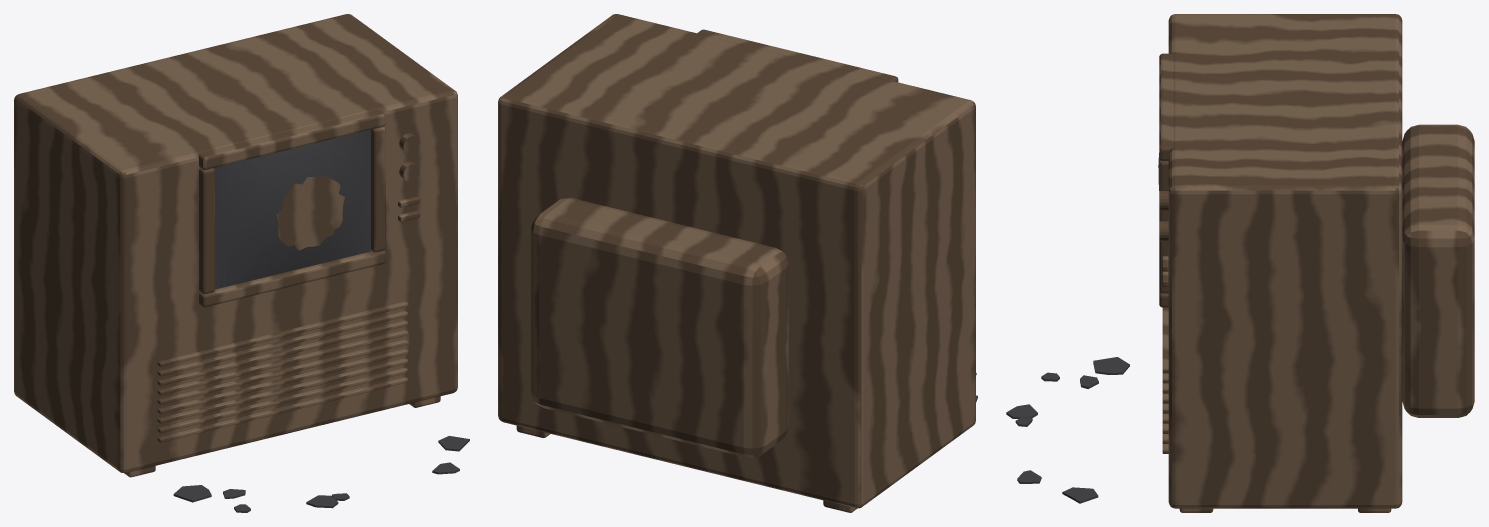
The model's file is PRP_CRTTV_Destroyed.fbx.
3 renders of one model, left to right at view 1: azimuth 30°, elevation 25°; view 2: azimuth 150°, elevation 25°; view 3: azimuth 270°, elevation 25°, orthographic. The views are drawn at different scales.
Parts seen in each view (by area): view 1: TV_Shell, TV_Screen; view 2: TV_Shell; view 3: TV_Shell, TV_GlassShard_05.
Part boxes in pixels (x1,y1,x2,y2): TV_Shell: (14, 14, 457, 477); TV_Screen: (213, 129, 370, 289); TV_Shell: (498, 14, 975, 512); TV_Shell: (1159, 14, 1474, 512); TV_GlassShard_05: (1093, 357, 1129, 374).
Size of the model in its own units: 75 by 66 by 84.18.
